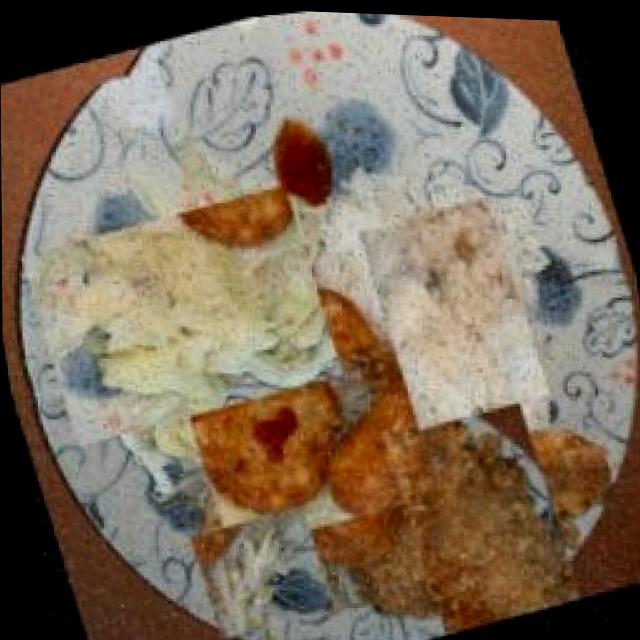chinese_cabbage: (26, 156, 336, 473)
fried_chicken: (362, 398, 607, 640)
mung_bean_sprouts: (188, 495, 334, 640)
rice: (353, 182, 552, 436)
triangle_hash_brown: (192, 296, 466, 576)
